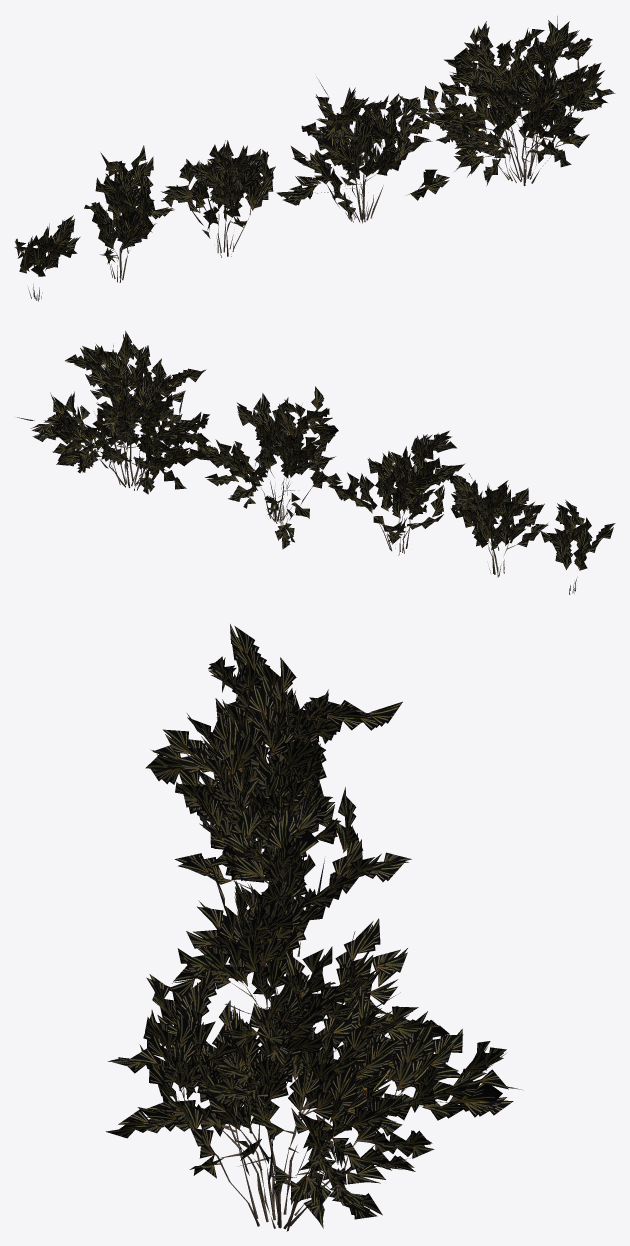
The model's file is wild_rooibos_bush.glb.
3 views of the same model, one above another, from view 1: azimuth 30°, elevation 25°; view 2: azimuth 150°, elevation 25°; view 3: azimuth 270°, elevation 25° (orthographic). The views are drawn at different scales.
Parts seen in each view (by area): view 1: wild_rooibos_bush_a; view 2: wild_rooibos_bush_a; view 3: wild_rooibos_bush_a.
Boxes of the visible parts, left/top/right/bottom form: wild_rooibos_bush_a: left=14, top=16, right=615, bottom=301; wild_rooibos_bush_a: left=17, top=331, right=615, bottom=594; wild_rooibos_bush_a: left=106, top=624, right=523, bottom=1231.
Bounding box in the file's own units: 2.27 × 0.533 × 0.7417.
2 materials, 2 textured.
